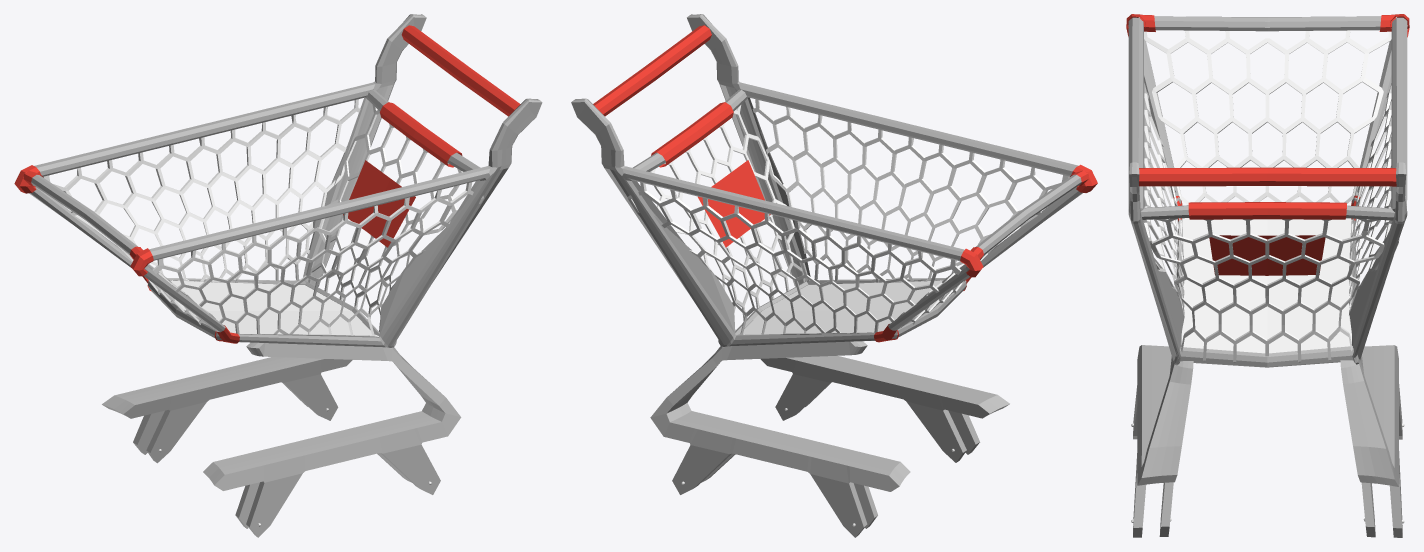
File: shopping cart.fbx
3 views of the same model, side by side, from view 1: azimuth 30°, elevation 25°; view 2: azimuth 150°, elevation 25°; view 3: azimuth 270°, elevation 25° (orthographic). The views are drawn at different scales.
Visible parts, largest first — view 1: Plane; view 2: Plane; view 3: Plane.
Part boxes in pixels (bbox=[...]): Plane: bbox=[14, 14, 542, 537]; Plane: bbox=[571, 14, 1097, 537]; Plane: bbox=[1126, 14, 1409, 537].
Size of the model in its own units: 198 by 331 by 381.
